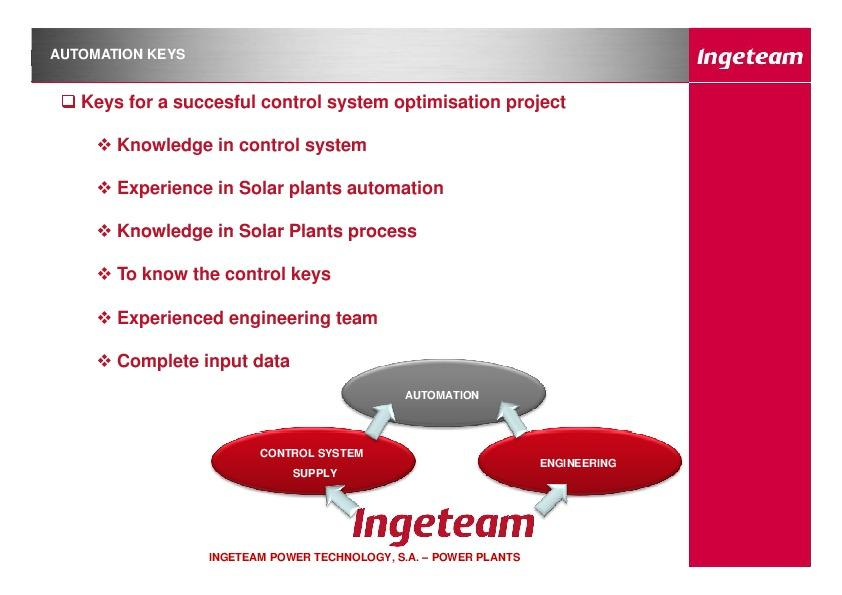paragraph: (52, 84, 684, 541)
subtitle: (202, 546, 544, 574)
title: (41, 37, 811, 79)
